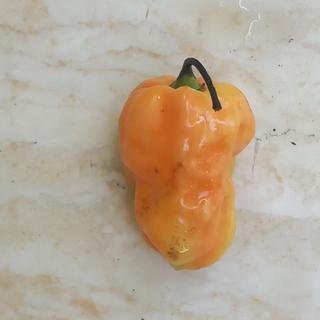Grade-A: (115, 73, 260, 276)
